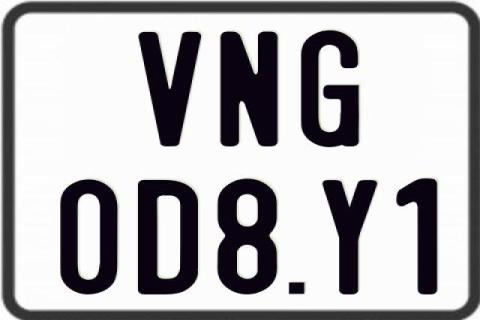0: (215, 178, 277, 296), (59, 177, 119, 295), (394, 176, 436, 293)
D: (138, 180, 202, 299)
G: (298, 29, 360, 150)
N: (218, 31, 278, 147)
V: (138, 32, 200, 150)
Y: (323, 178, 382, 292)
